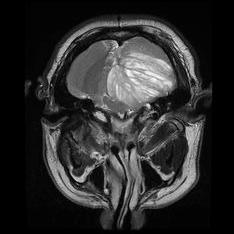Normal_Brain: (2, 1, 234, 234)
